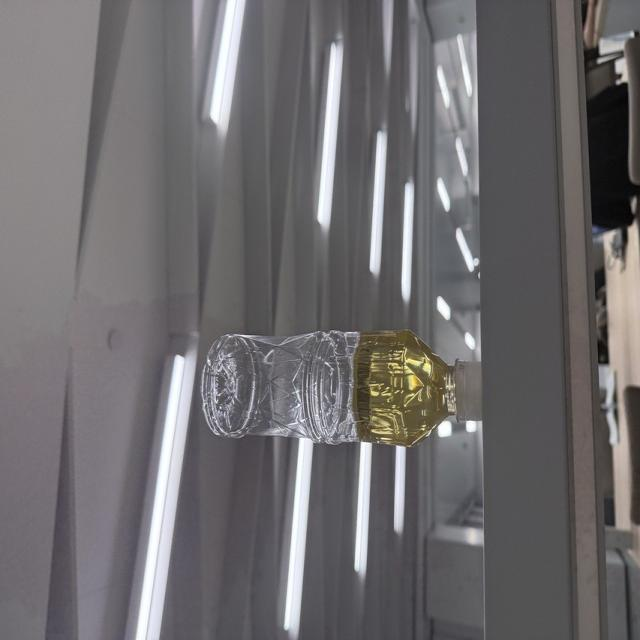low: (202, 330, 481, 446)
